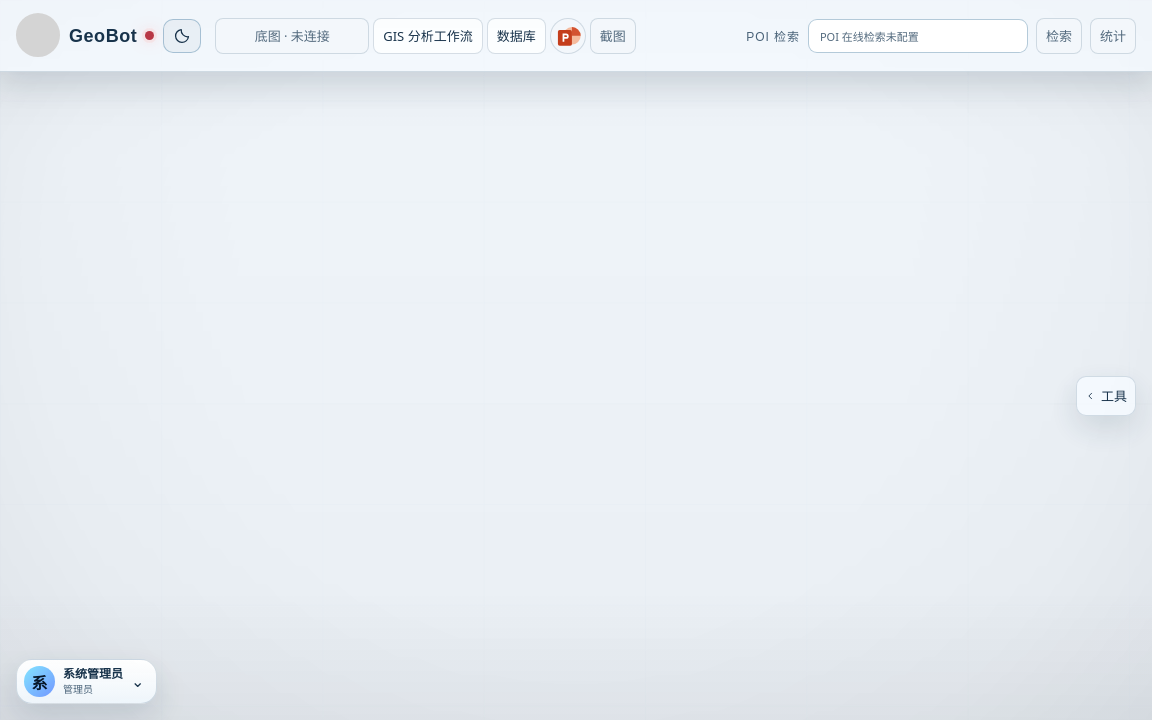
Test case: account dock › opens the account menu when the dock card is clicked
expect the text "admin@school.edu.cn" is not shown: met
Click the button with class "user-menu-trigger": [87, 682] box top-left (16, 659), bottom-right (157, 704)
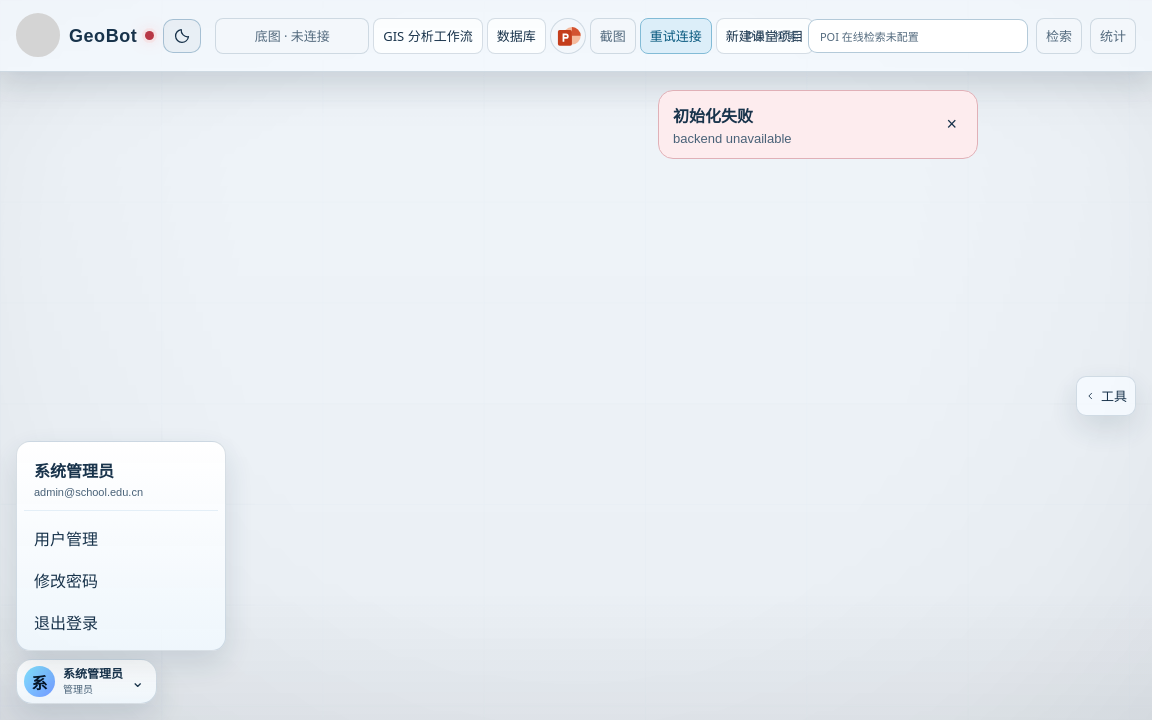
expect the text "admin@school.edu.cn" is shown: met, box top-left (34, 486), bottom-right (143, 498)
expect the menu item "用户管理" is shown: met, box top-left (24, 517), bottom-right (218, 559)
expect the menu item "修改密码" is shown: met, box top-left (24, 559), bottom-right (218, 601)
